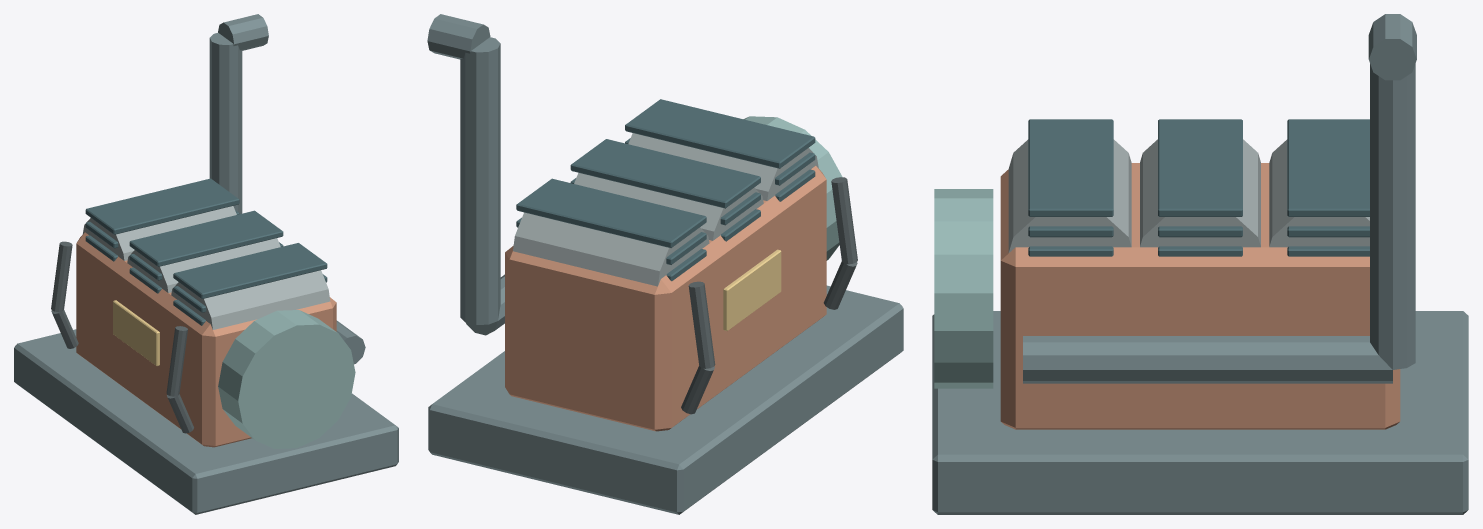
File: engine.glb
The picture shows the model from 3 angles, left to right: view 1: azimuth 30°, elevation 25°; view 2: azimuth 150°, elevation 25°; view 3: azimuth 270°, elevation 25°; orthographic projection. The views are drawn at different scales.
Parts seen in each view (by area): view 1: engine; view 2: engine; view 3: engine.
Boxes of the visible parts, x1,y1,x2,y2 form: engine: (14, 14, 398, 514); engine: (427, 14, 903, 514); engine: (932, 14, 1468, 514).
Bounding box in the file's own units: 1.03 × 1.46 × 1.45.
